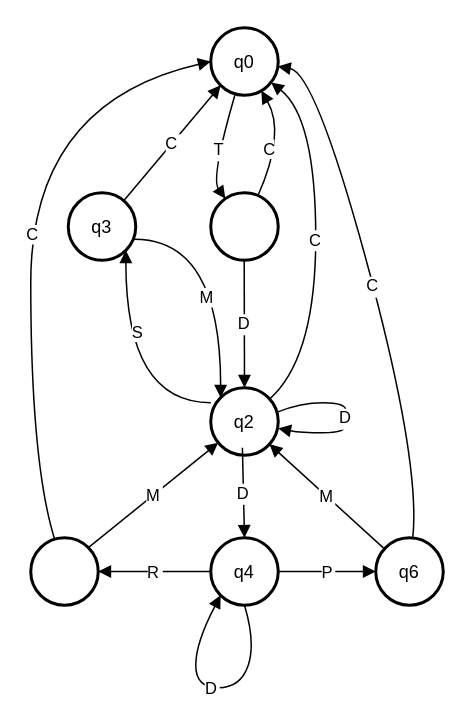
Some shapes in this 471 by 723 pixel diagram are drawn without their labels. Each missing label, with the centre of its shape:
"q1" goes at (x=243, y=225).
"q5" goes at (x=63, y=571).
